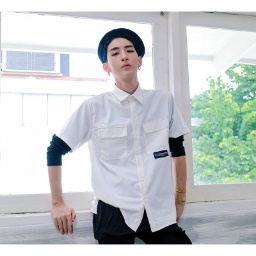face: (98, 27, 144, 85)
